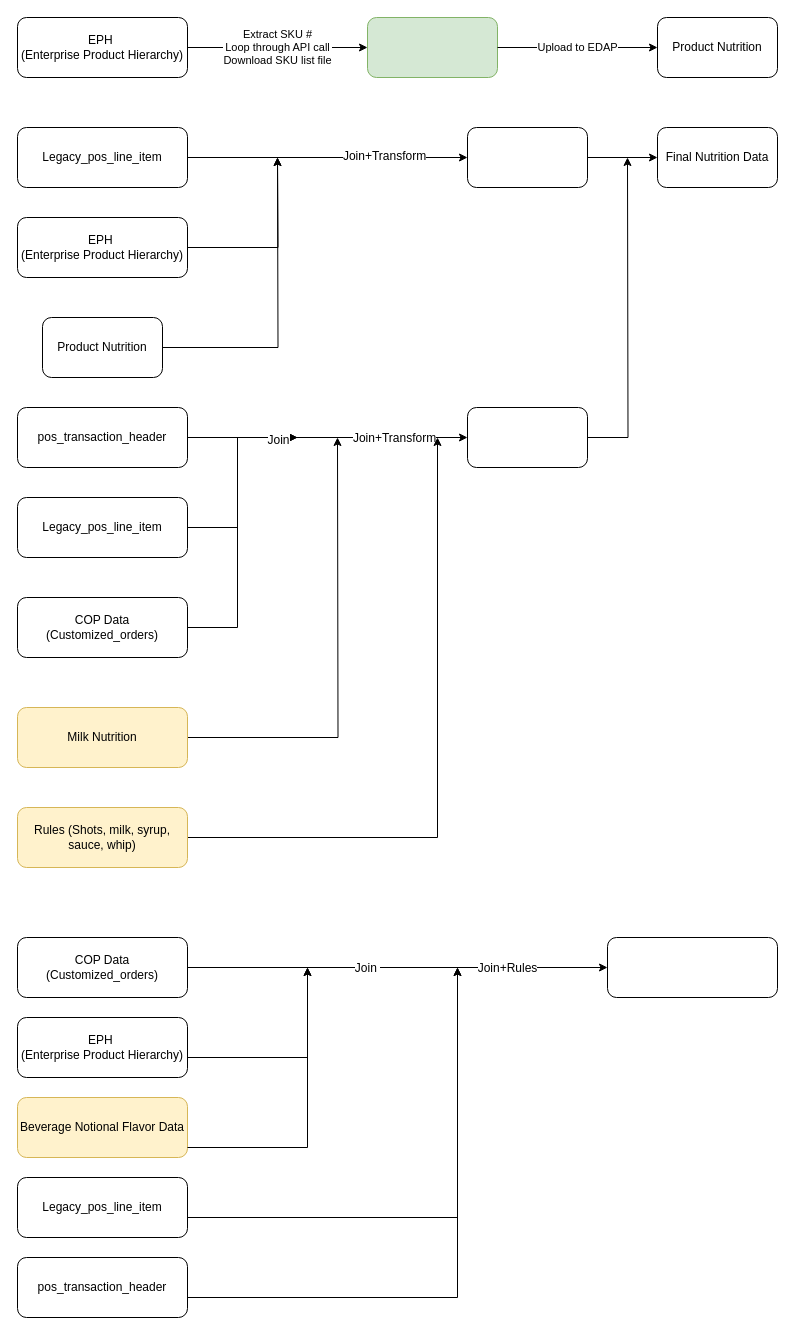
Image size: 795x1335. Some labels were removed from this diagram. Here are the shapes that lost their labels. From the top down, the centre of each, then its label:
At point (432, 47): "OAPI Beverage & Food Nutrition (local)".
At point (527, 157): "Unmodified Nutrition Data".
At point (527, 437): "Modifier Nutrition Data".
At point (692, 967): "Flavor Data".
